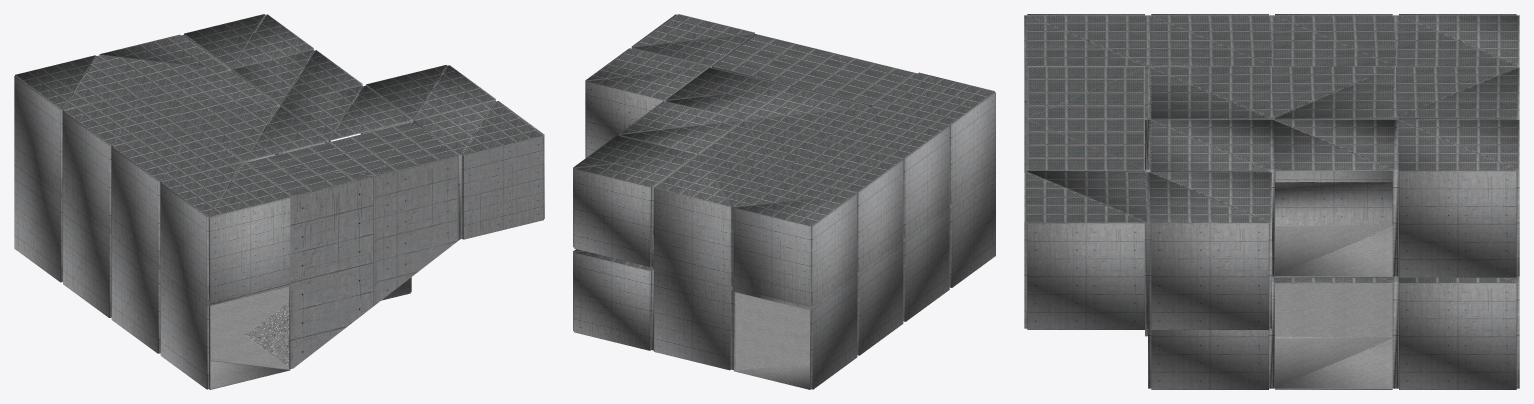
Rendered from Balcony.fbx.
3 renders of one model, left to right at view 1: azimuth 30°, elevation 25°; view 2: azimuth 150°, elevation 25°; view 3: azimuth 270°, elevation 25°, orthographic. The views are drawn at different scales.
Visible parts, largest first — view 1: Room.011, Room.001; view 2: Room.011, Room.001; view 3: Room.011, Room.001.
Boxes of the visible parts, x1,y1,x2,y2 form: Room.011: (14,14,460,389); Room.001: (365,65,544,239); Room.011: (573,34,995,389); Room.001: (585,14,755,158); Room.011: (1024,14,1519,389); Room.001: (1024,171,1271,329).
Size of the model in its own units: 800 by 390 by 800.
